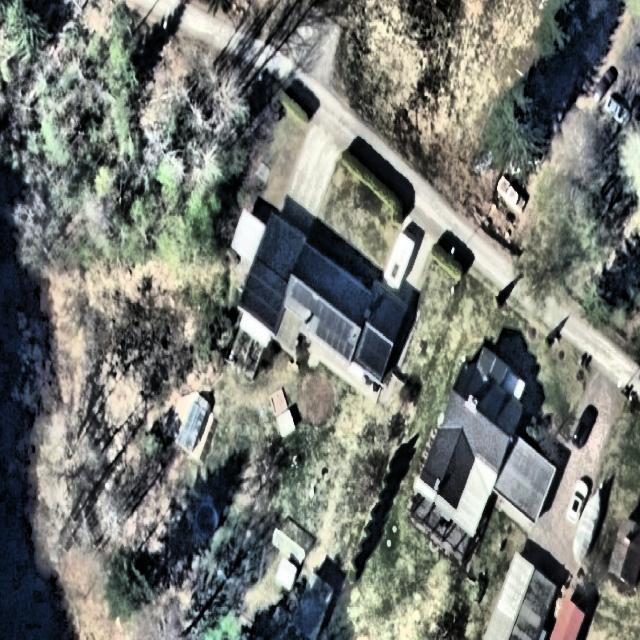roof_pv: (316, 303, 354, 362), (359, 328, 392, 380), (291, 280, 318, 316)
